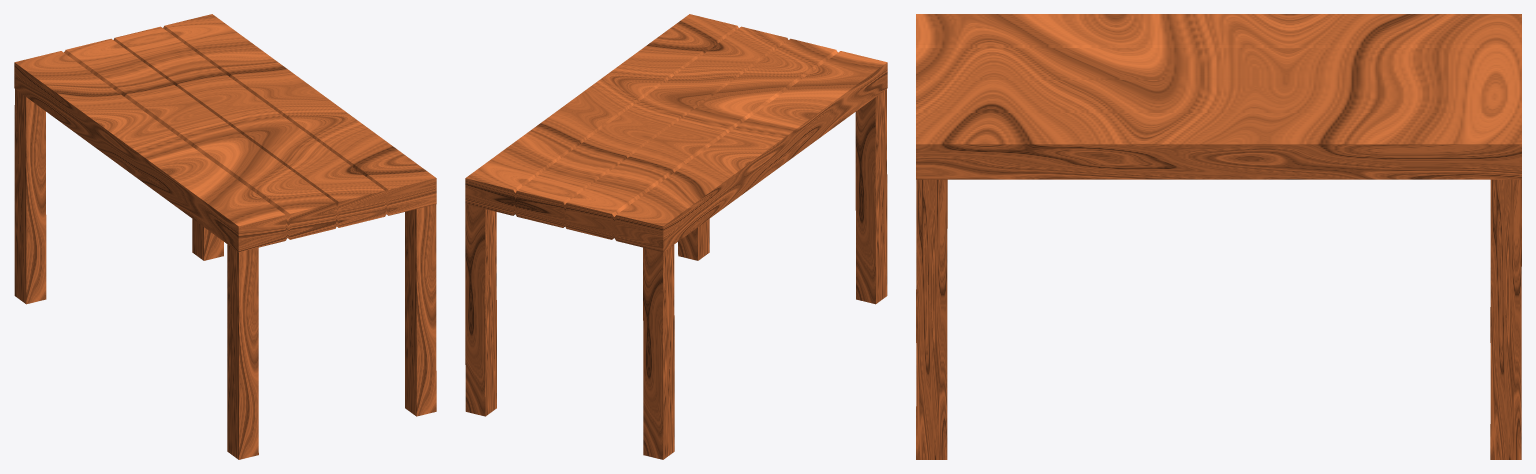
Rendered from Wooden Table .fbx.
3 views of the same model, side by side, from view 1: azimuth 30°, elevation 25°; view 2: azimuth 150°, elevation 25°; view 3: azimuth 270°, elevation 25° (orthographic). The views are drawn at different scales.
Visible parts, largest first — view 1: Cube.001; view 2: Cube.001; view 3: Cube.001.
Boxes of the visible parts, x1,y1,x2,y2 form: Cube.001: (14,14,436,459); Cube.001: (465,14,887,459); Cube.001: (916,14,1521,459).
Size of the model in its own units: 200 by 226 by 392.
